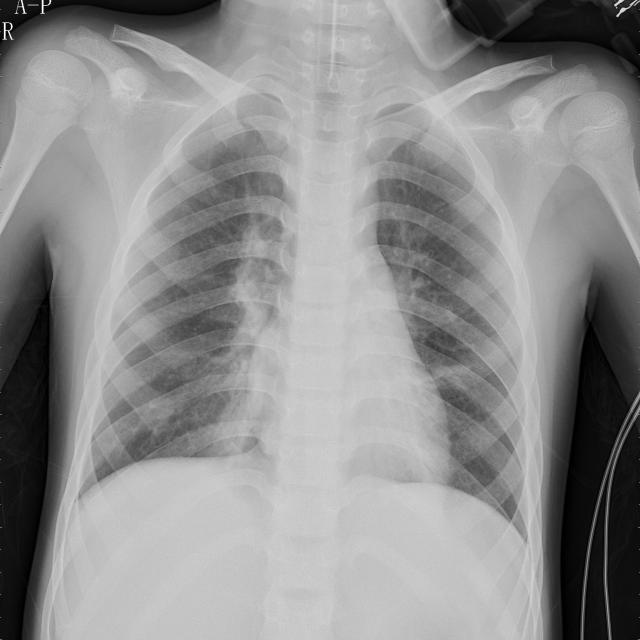low-pneumonia: (197, 233, 280, 452), (387, 235, 448, 338)
